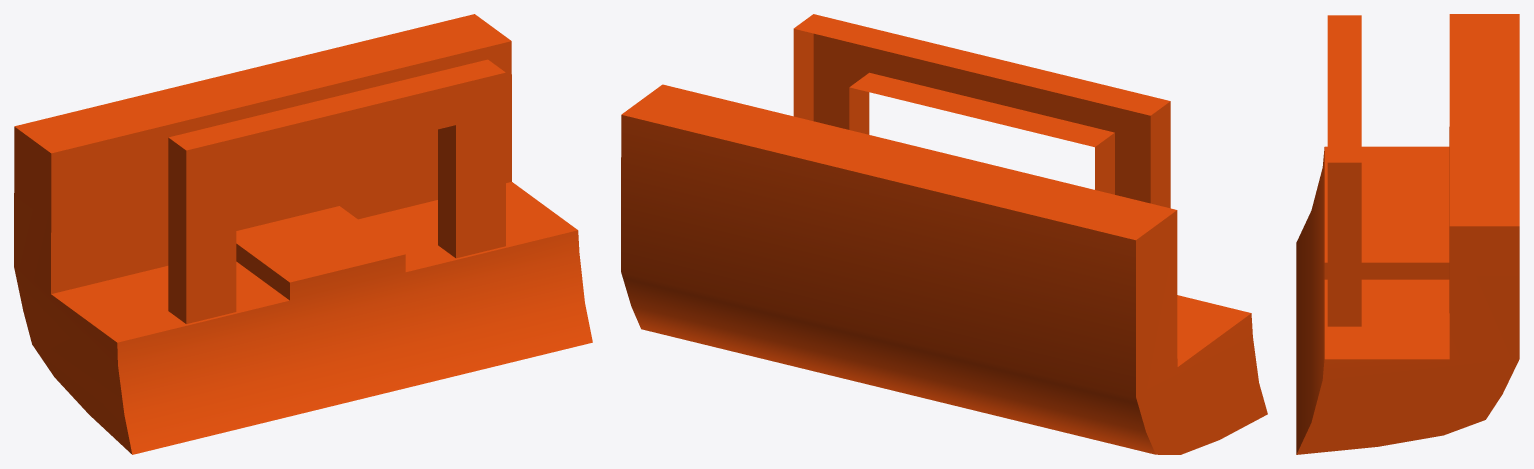
The model's file is Beard 03.FBX.
3 views of the same model, side by side, from view 1: azimuth 30°, elevation 25°; view 2: azimuth 150°, elevation 25°; view 3: azimuth 270°, elevation 25° (orthographic). The views are drawn at different scales.
Visible parts, largest first — view 1: Beard 03; view 2: Beard 03; view 3: Beard 03.
Part boxes in pixels (x1=…): Beard 03: x1=14, y1=14, x2=592, y2=454; Beard 03: x1=621, y1=14, x2=1267, y2=454; Beard 03: x1=1296, y1=14, x2=1519, y2=454.
Size of the model in its own units: 51.32 by 29.23 by 22.76.
Materials: 1 (1 with a texture image).
